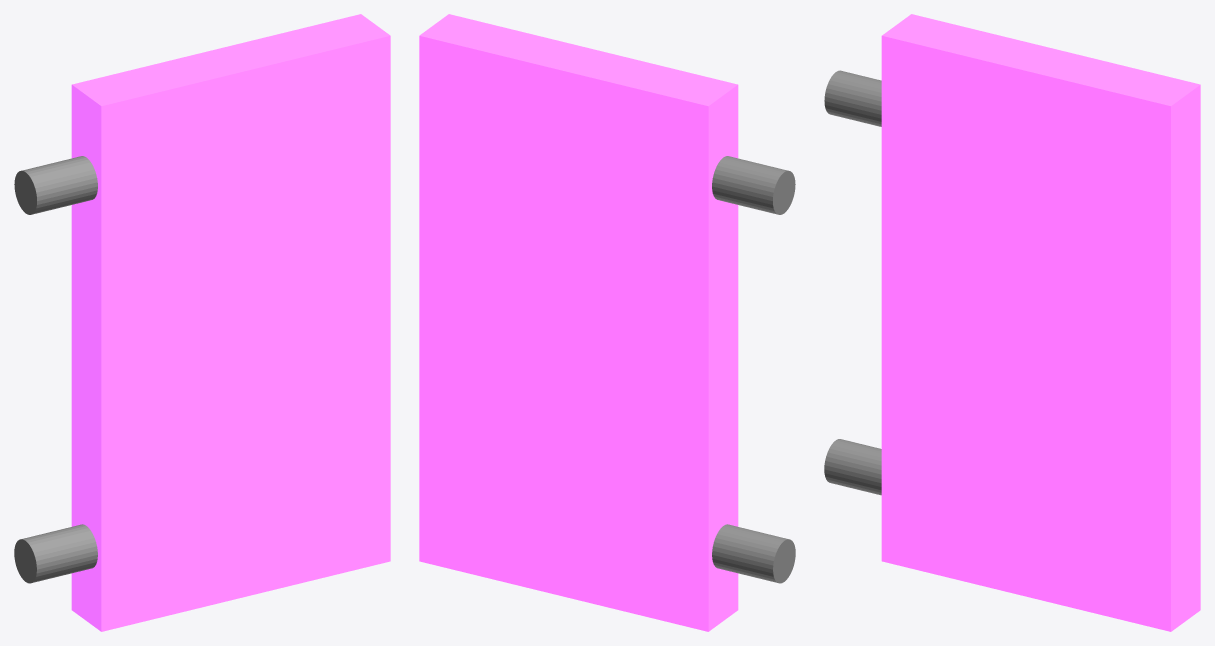
File: NeonPurpleSign_Mid.fbx
3 views of the same model, side by side, from view 1: azimuth 30°, elevation 25°; view 2: azimuth 150°, elevation 25°; view 3: azimuth 330°, elevation 25° (orthographic).
Visible parts, largest first — view 1: Bottom Rung; view 2: Bottom Rung; view 3: Bottom Rung.
Part boxes in pixels (x1,y1,x2,y2): Bottom Rung: [14, 14, 390, 631]; Bottom Rung: [419, 14, 795, 631]; Bottom Rung: [824, 14, 1200, 631].
Size of the model in its own units: 154 by 221 by 22.57.
